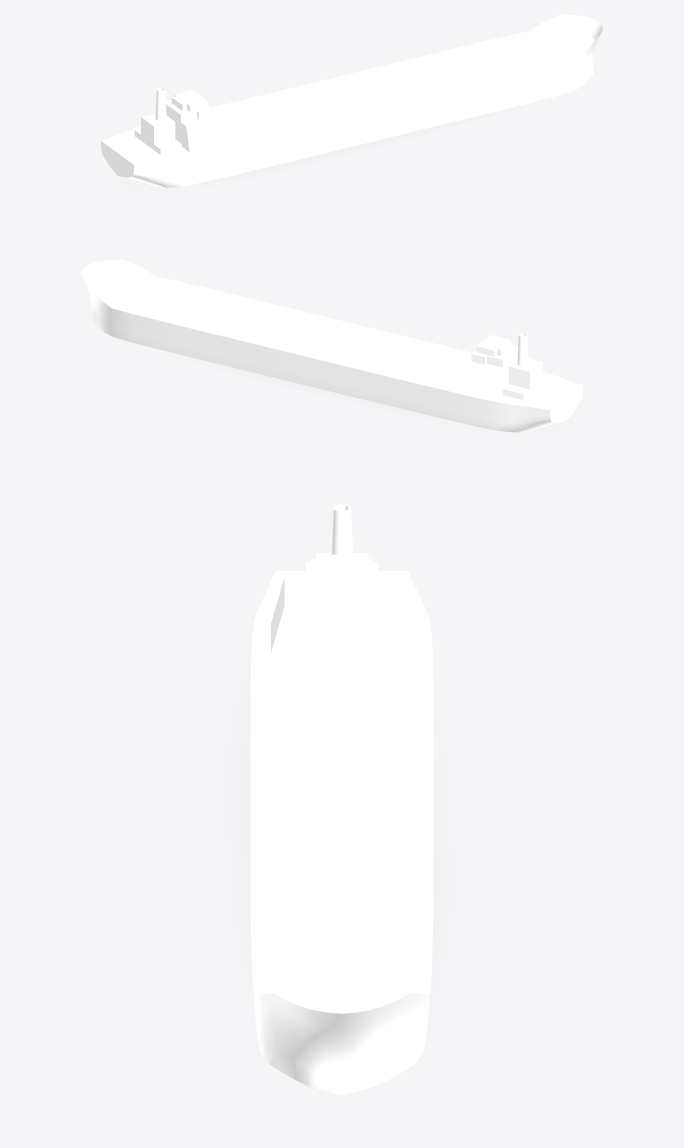
File: AIS_Tanker-A_001.glb
3 views of the same model, one above another, from view 1: azimuth 30°, elevation 25°; view 2: azimuth 150°, elevation 25°; view 3: azimuth 270°, elevation 25° (orthographic). The views are drawn at different scales.
Visible parts, largest first — view 1: AIS_Tanker-A.002, SurfaceGraphic_whiteGlow.009; view 2: AIS_Tanker-A.002, SurfaceGraphic_whiteGlow.009; view 3: AIS_Tanker-A.002, SurfaceGraphic_whiteGlow.009.
Boxes of the visible parts, x1,y1,x2,y2 form: AIS_Tanker-A.002: [101, 14, 602, 187]; SurfaceGraphic_whiteGlow.009: [205, 118, 470, 182]; AIS_Tanker-A.002: [81, 259, 582, 432]; SurfaceGraphic_whiteGlow.009: [201, 360, 410, 411]; AIS_Tanker-A.002: [250, 504, 433, 1094]; SurfaceGraphic_whiteGlow.009: [235, 706, 443, 963].
Size of the model in its own units: 326 by 44.89 by 91.06.
Materials: 2 (1 with a texture image).
